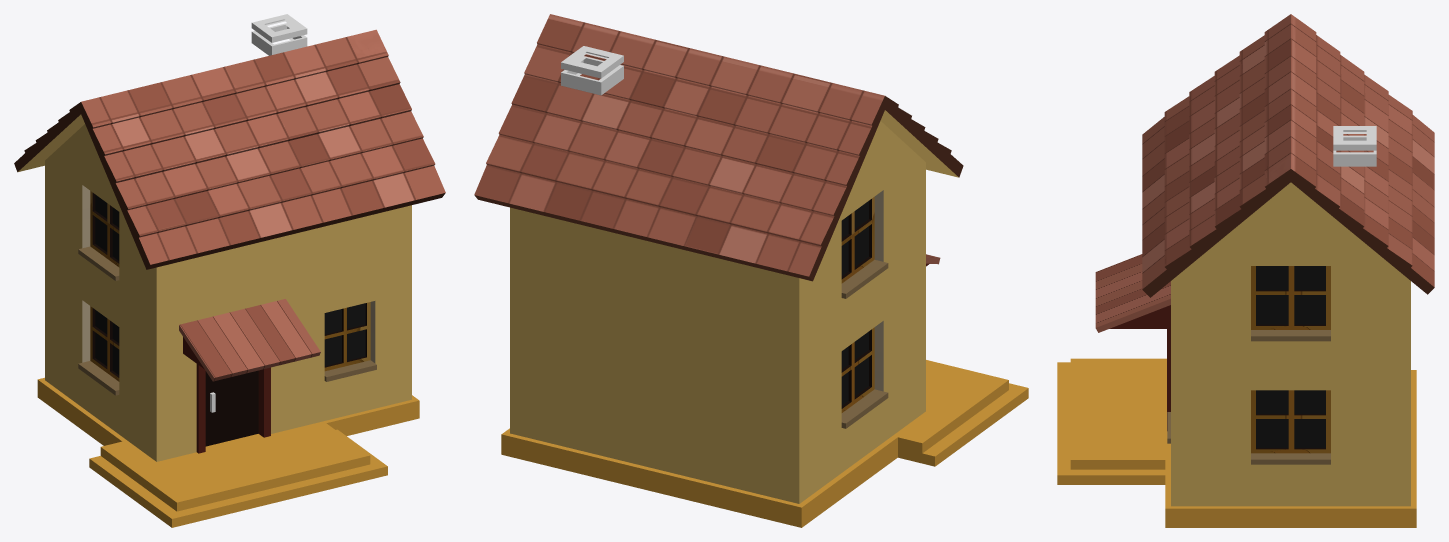
The model's file is house_2.FBX.
3 renders of one model, left to right at view 1: azimuth 30°, elevation 25°; view 2: azimuth 150°, elevation 25°; view 3: azimuth 270°, elevation 25°, orthographic. The views are drawn at different scales.
Parts seen in each view (by area): view 1: Box1400, house_2_roof012, house_2_stairs002, h2_entrance_roof002, windows002, house_2_underroof011, h2_door002, h2_windowframes002, h_2_under_windows002, h2_door_frame002, h2_smoke_hall010, h_2_over_windows002 (+1 smaller); view 2: Box1400, house_2_roof012, house_2_stairs002, house_2_underroof011, h2_smoke_hall010, windows002, h_2_under_windows002, h2_windowframes002, h_2_over_windows002, h2_windowframes_inside002; view 3: Box1400, house_2_roof012, house_2_stairs002, windows002, house_2_underroof011, h2_entrance_roof002, h2_windowframes002, h_2_under_windows002, h2_smoke_hall010, Box1401, h2_windowframes_inside002.
Part boxes in pixels (x1,y1,x2,y2): Box1400: (18,114,411,461); house_2_roof012: (81,29,445,264); house_2_stairs002: (37,377,419,527); h2_entrance_roof002: (179,299,320,381); windows002: (95,194,365,374); house_2_underroof011: (14,102,445,269); h2_door002: (205,370,258,446); h2_windowframes002: (90,191,370,381); h_2_under_windows002: (78,246,376,395); h2_door_frame002: (196,364,270,453); h2_smoke_hall010: (251,14,307,55); h_2_over_windows002: (82,185,375,363); Box1400: (510,110,958,503); house_2_roof012: (474,14,884,276); house_2_stairs002: (501,360,1028,527); house_2_underroof011: (474,96,963,281); h2_smoke_hall010: (561,46,623,95); windows002: (841,201,868,405); h_2_under_windows002: (841,259,888,428); h2_windowframes002: (841,197,874,412); h_2_over_windows002: (874,190,883,391); h2_windowframes_inside002: (841,199,871,408); Box1400: (1171,182,1410,506); house_2_roof012: (1142,14,1434,288); house_2_stairs002: (1057,358,1416,527); windows002: (1256,266,1325,447); house_2_underroof011: (1142,169,1434,297); h2_entrance_roof002: (1095,254,1170,332); h2_windowframes002: (1251,266,1330,453); h_2_under_windows002: (1167,330,1330,464); h2_smoke_hall010: (1333,126,1376,166); Box1401: (1109,305,1170,328); h2_windowframes_inside002: (1256,290,1325,449).
Bounding box in the file's own units: 25.21 × 26.29 × 24.5.
